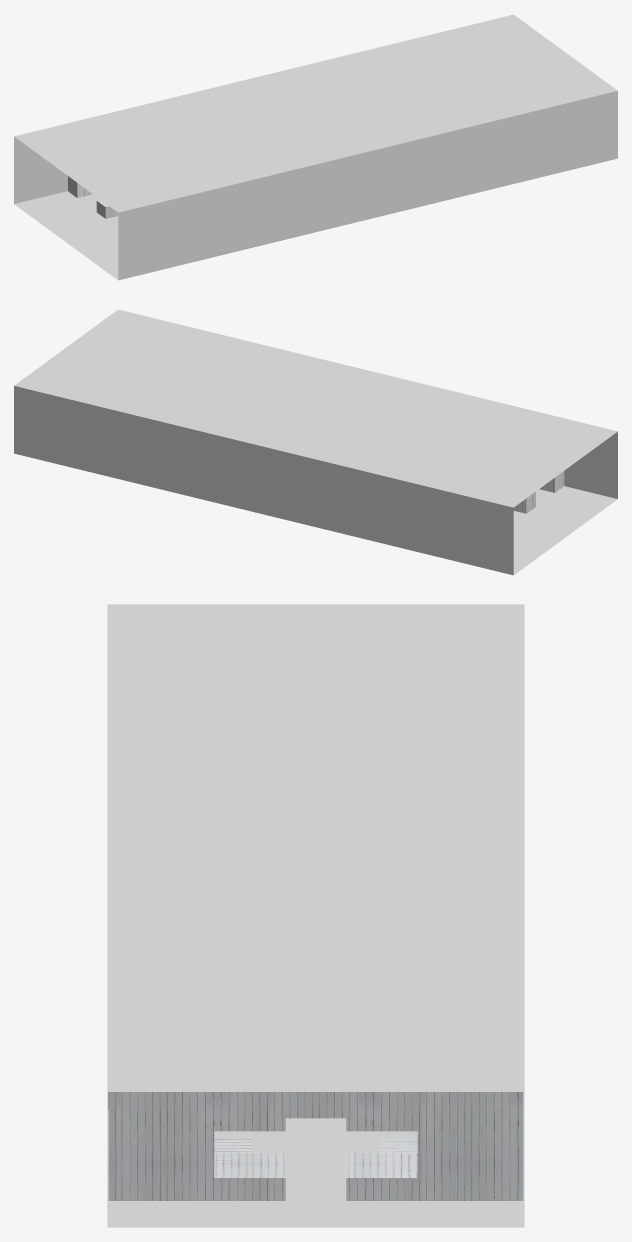
The model's file is MAP2.fbx.
3 renders of one model, top to bottom at view 1: azimuth 30°, elevation 25°; view 2: azimuth 150°, elevation 25°; view 3: azimuth 270°, elevation 25°, orthographic. The views are drawn at different scales.
Visible parts, largest first — view 1: Box001; view 2: Box001; view 3: Box001, Box034.
Part boxes in pixels (bbox=[...]): Box001: bbox=[14, 14, 617, 280]; Box001: bbox=[14, 309, 617, 575]; Box001: bbox=[107, 604, 524, 1227]; Box034: bbox=[108, 1092, 523, 1200].
Bounding box in the file's own units: 775 × 110 × 280.
Materials: 1 (1 with a texture image).
